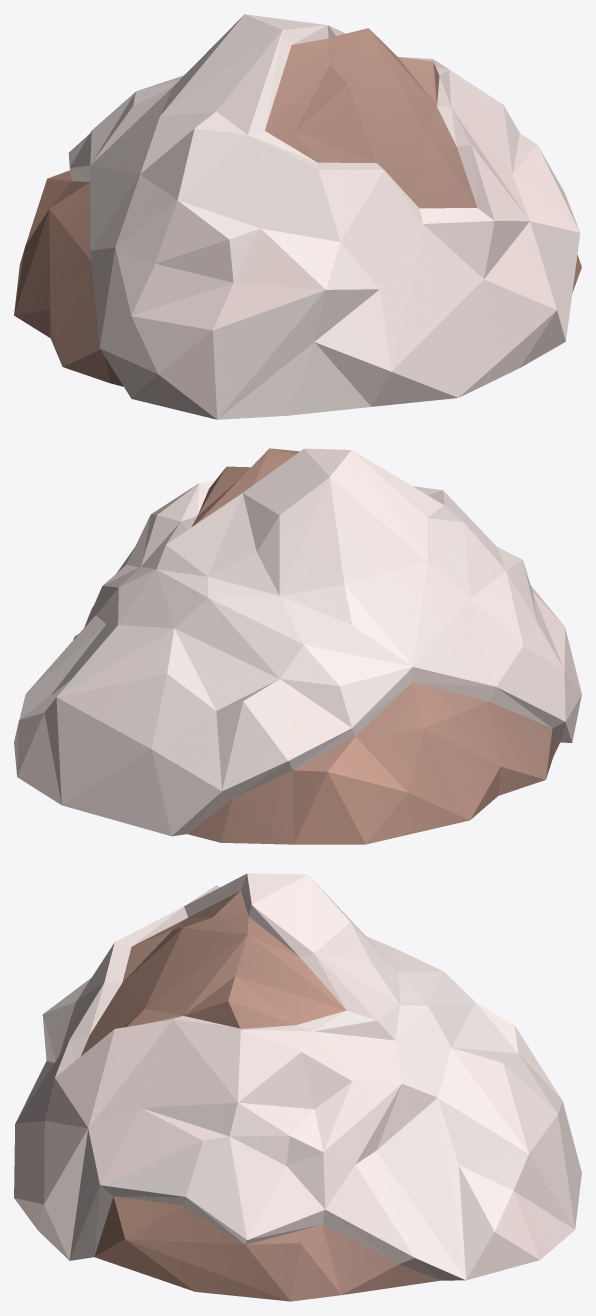
File: Rock_Big_1A.fbx
3 views of the same model, one above another, from view 1: azimuth 30°, elevation 25°; view 2: azimuth 150°, elevation 25°; view 3: azimuth 270°, elevation 25° (orthographic). The views are drawn at different scales.
Parts seen in each view (by area): view 1: Group64600; view 2: Group64600; view 3: Group64600.
Part boxes in pixels (left/top/right/bottom): Group64600: left=14, top=14, right=581, bottom=419; Group64600: left=14, top=448, right=581, bottom=844; Group64600: left=14, top=873, right=581, bottom=1301.
Size of the model in its own units: 7.58 by 4.35 by 7.57.
1 material, 1 textured.
